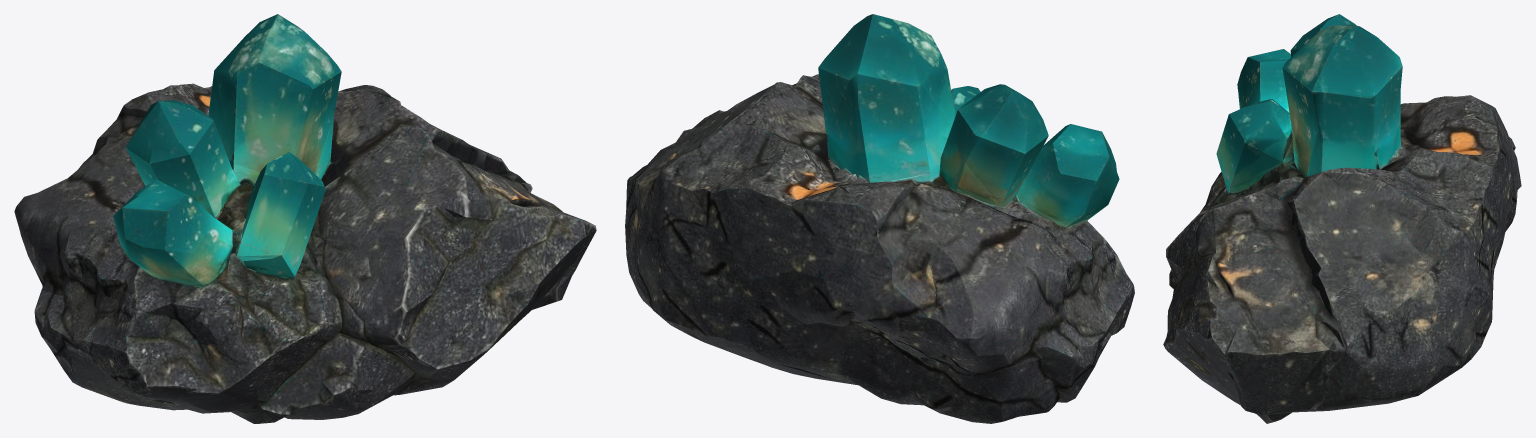
Rendered from arkelium-ore.glb.
3 views of the same model, side by side, from view 1: azimuth 30°, elevation 25°; view 2: azimuth 150°, elevation 25°; view 3: azimuth 270°, elevation 25° (orthographic). The views are drawn at different scales.
Bounding box in the file's own units: 1.9 × 1.35 × 1.32.
1 material, 1 textured.
